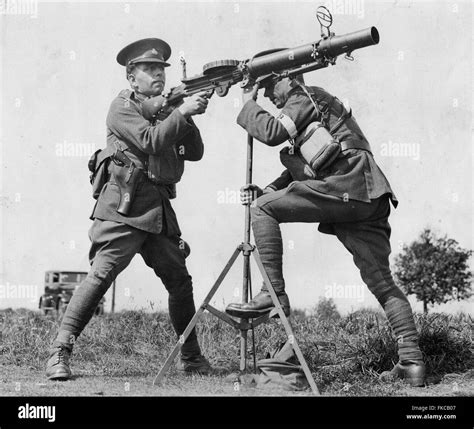gun: (139, 25, 380, 119)
